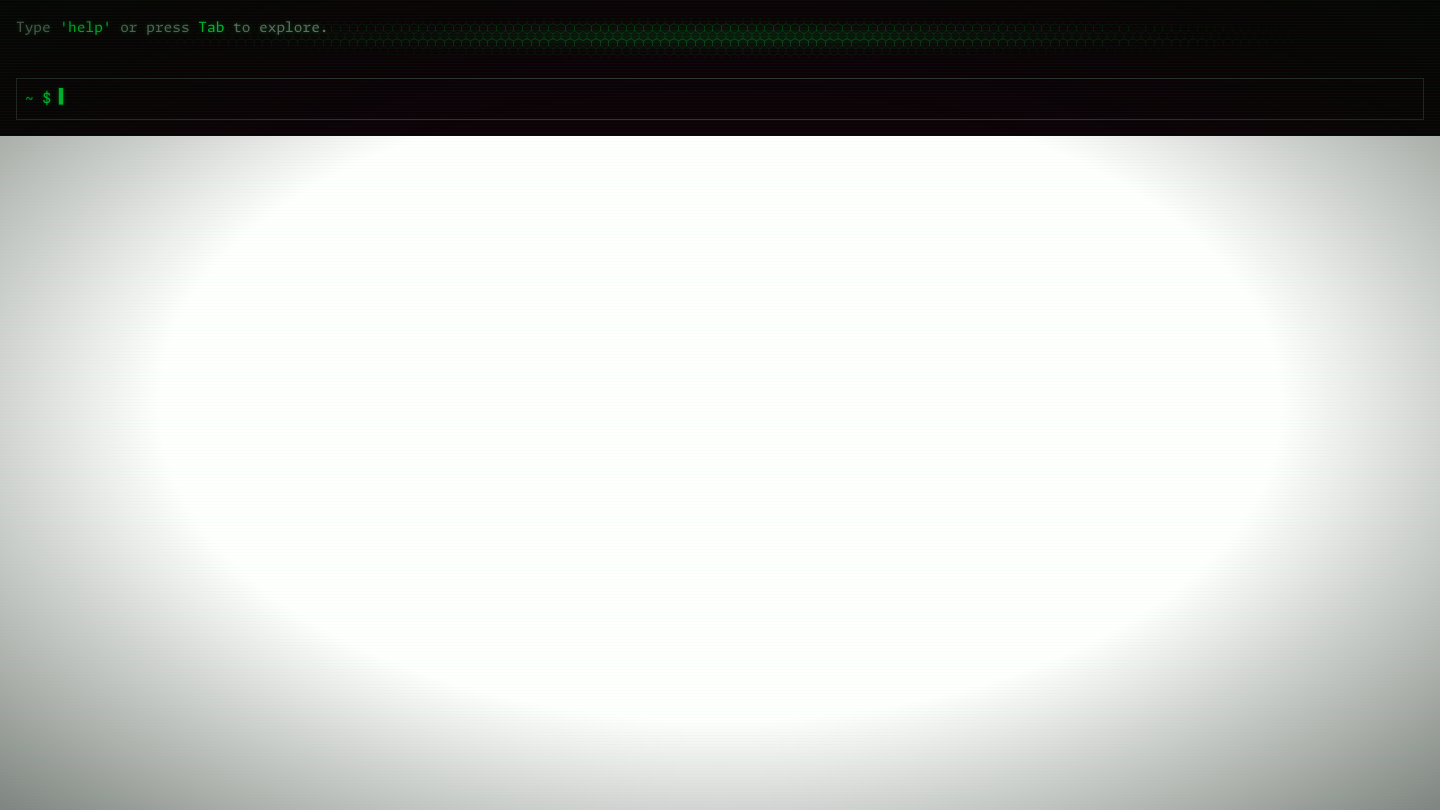
Test case: Terminal › shows full help output when help command is typed
In the field: (737, 100) x1=59 y1=90 x2=1415 y2=110, type "help"
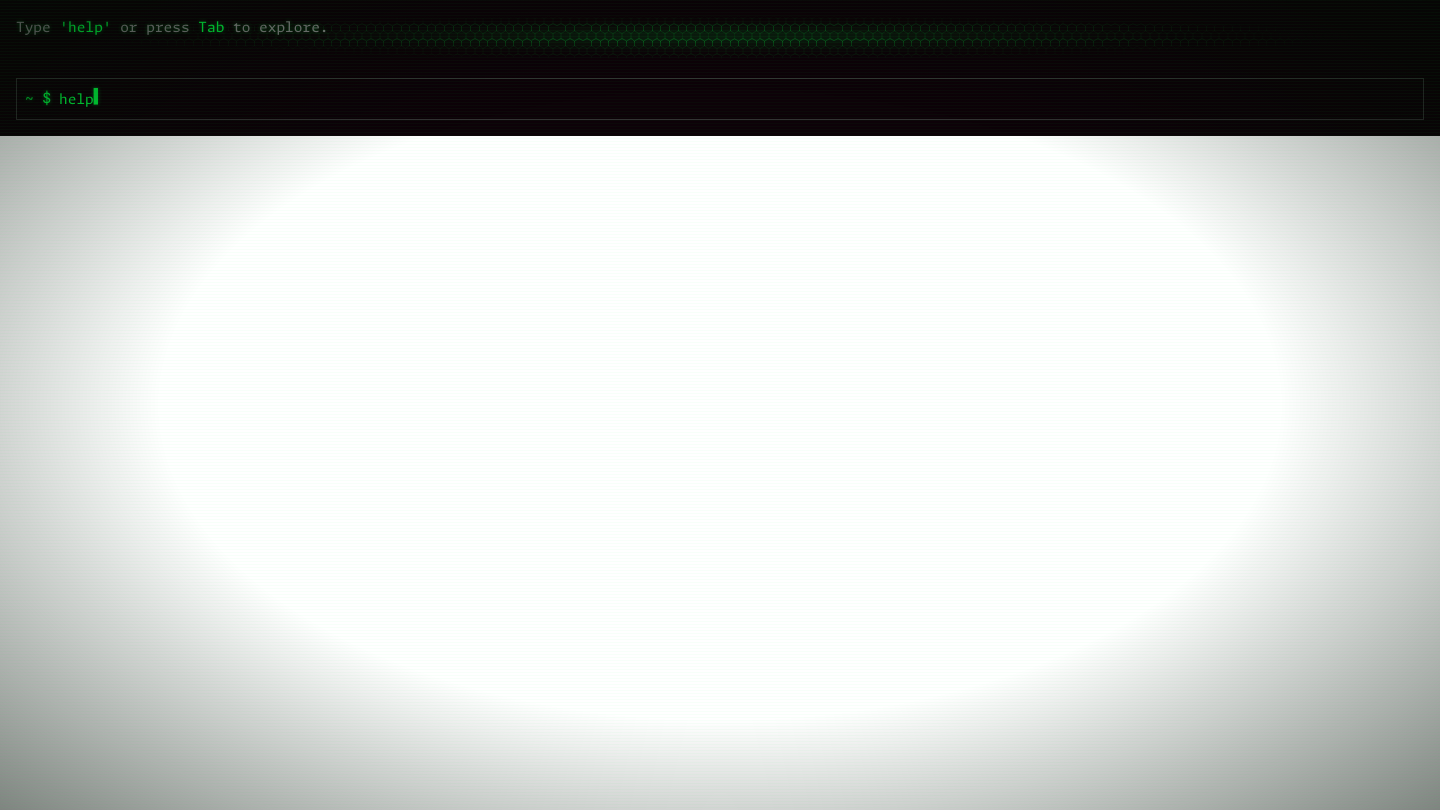
Press Enter in the field, box x1=59 y1=90 x2=1415 y2=110
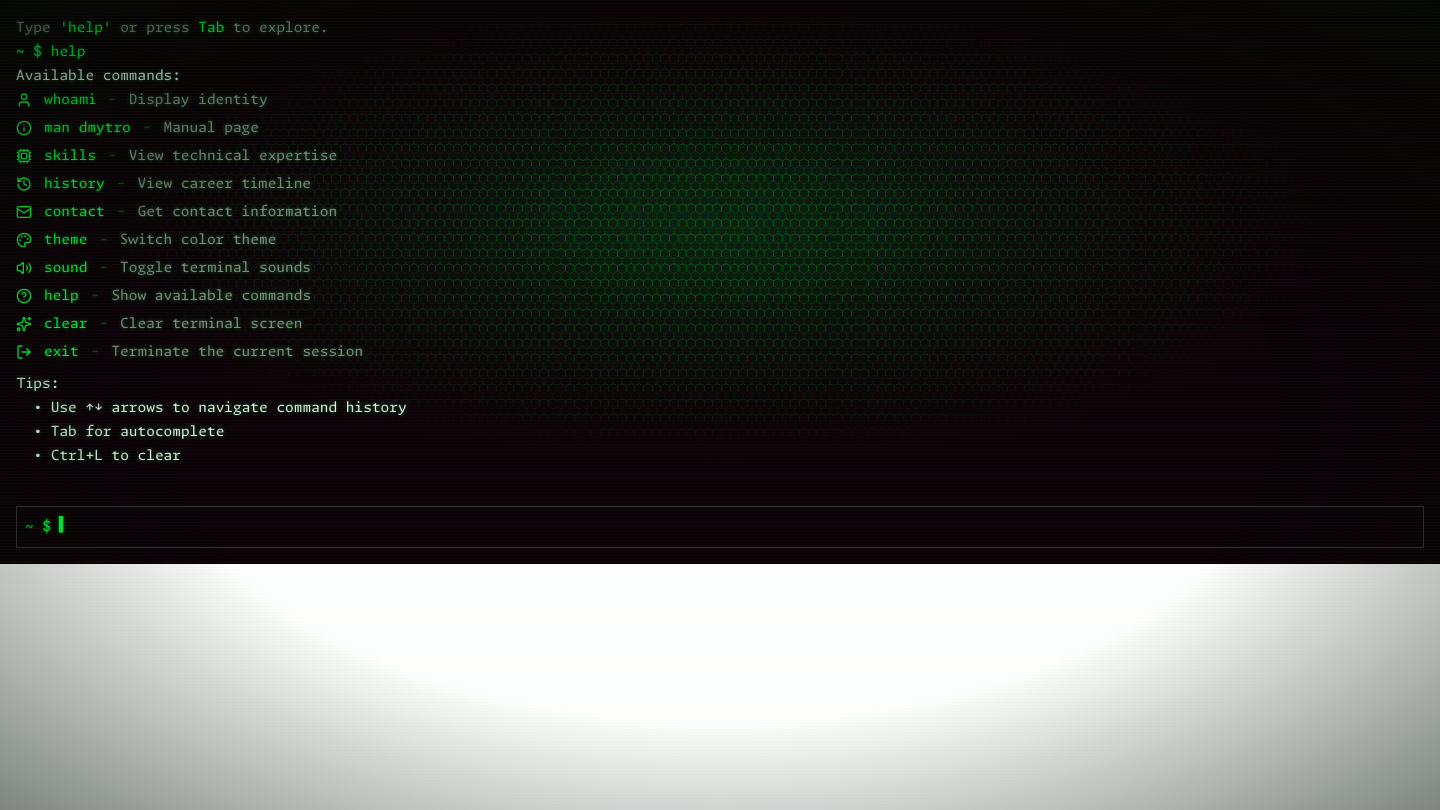
Now the text "Available commands:" is shown, box x1=16 y1=69 x2=181 y2=83
